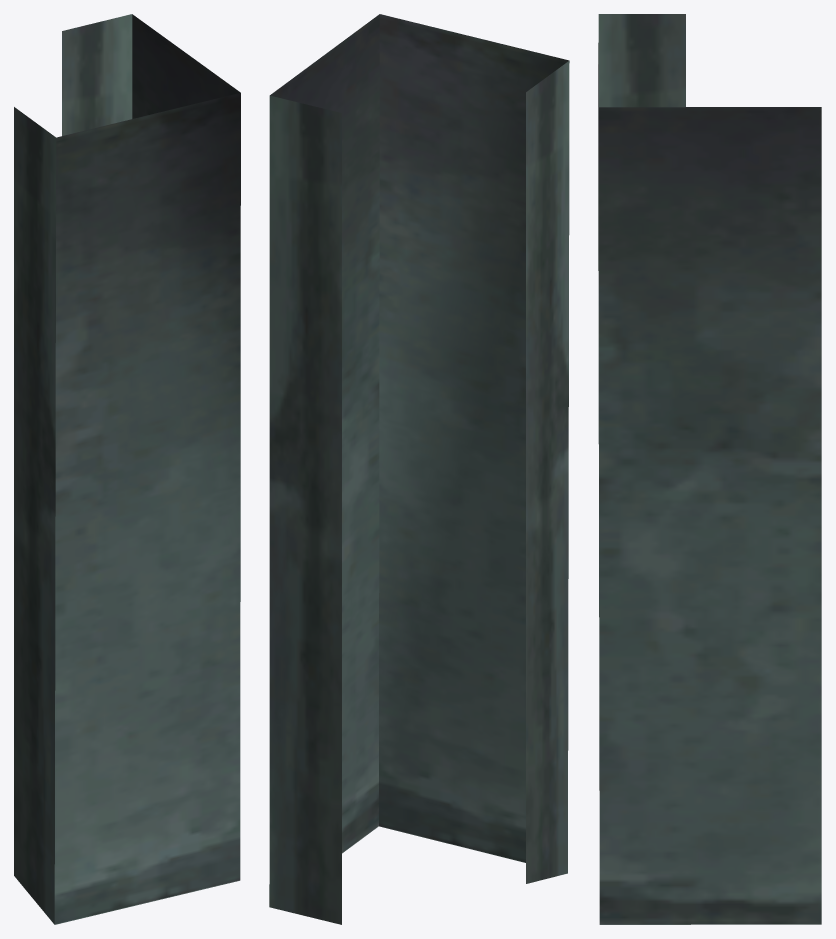
File: crypt_quarter_convex_01.fbx
The picture shows the model from 3 angles, left to right: view 1: azimuth 30°, elevation 25°; view 2: azimuth 150°, elevation 25°; view 3: azimuth 270°, elevation 25°; orthographic projection. The views are drawn at different scales.
Parts seen in each view (by area): view 1: crypt_tileset/crypt_wall03; view 2: crypt_tileset/crypt_wall03; view 3: crypt_tileset/crypt_wall03.
Part boxes in pixels (x1=…): crypt_tileset/crypt_wall03: x1=14, y1=14, x2=240, y2=924; crypt_tileset/crypt_wall03: x1=269, y1=14, x2=569, y2=924; crypt_tileset/crypt_wall03: x1=598, y1=14, x2=821, y2=924.
Size of the model in its own units: 0.3454 by 1.41 by 0.3495.
